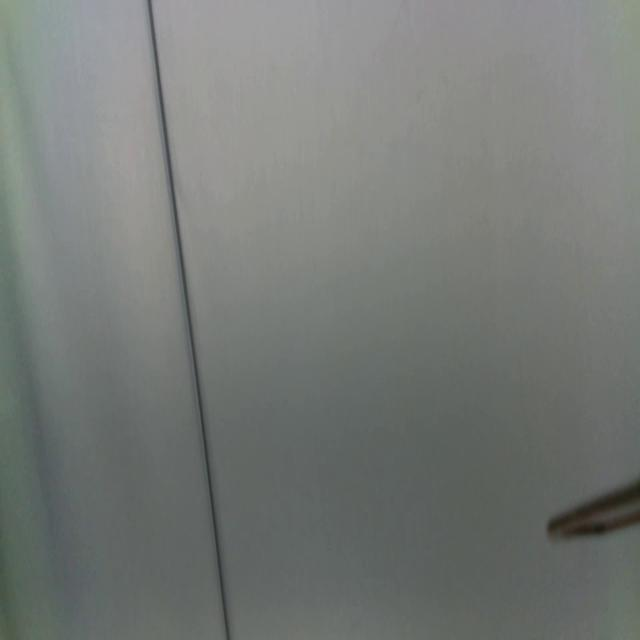crease: (147, 0, 231, 640)
